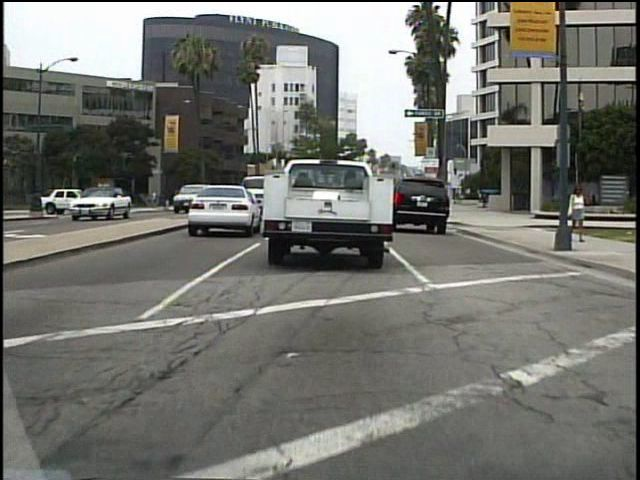person: (567, 177, 588, 247), (110, 180, 125, 214), (109, 189, 124, 220), (152, 188, 161, 210)
